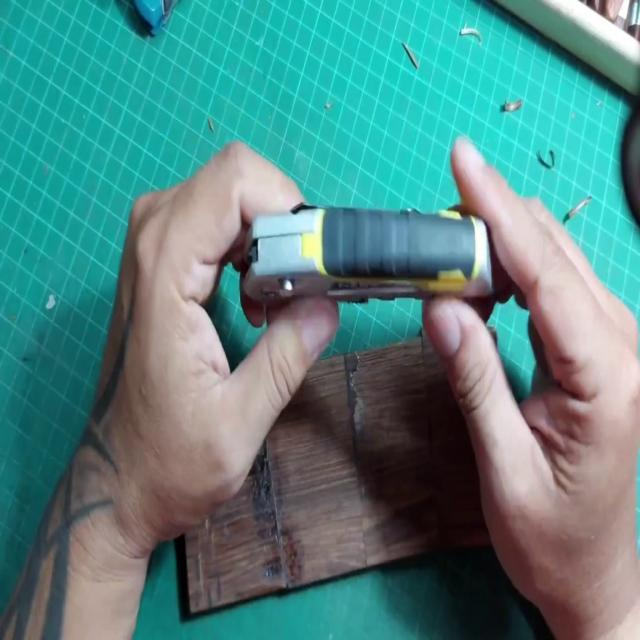cutter: (69, 127, 640, 590)
